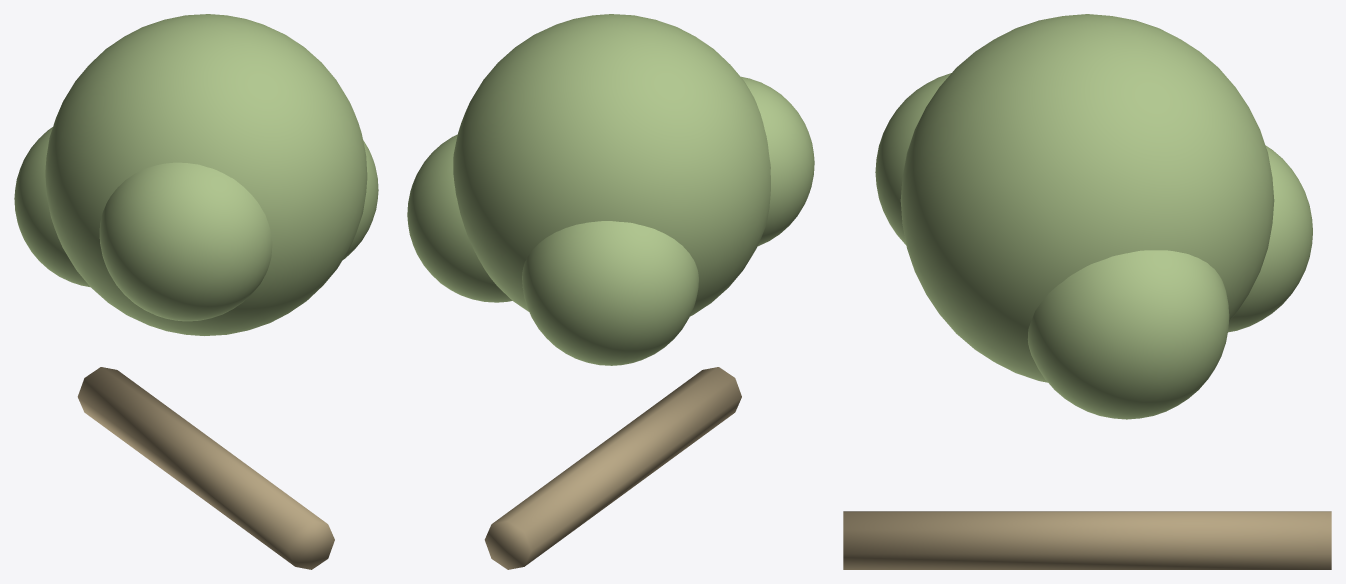
The model's file is plant_tree_apple.glb.
3 renders of one model, left to right at view 1: azimuth 30°, elevation 25°; view 2: azimuth 150°, elevation 25°; view 3: azimuth 270°, elevation 25°, orthographic. The views are drawn at different scales.
Parts seen in each view (by area): view 1: crown_main, crown_sub1, trunk, crown_sub2, crown_sub0; view 2: crown_main, crown_sub2, trunk, crown_sub0, crown_sub1; view 3: crown_main, trunk, crown_sub0, crown_sub2, crown_sub1.
Part boxes in pixels (x1,y1,x2,y2): crown_main: (45, 14, 367, 335); crown_sub1: (99, 162, 272, 321); trunk: (77, 367, 334, 569); crown_sub2: (14, 127, 90, 287); crown_sub0: (343, 140, 378, 259); crown_main: (453, 14, 770, 316); crown_sub2: (522, 221, 698, 365); trunk: (484, 367, 741, 569); crown_sub0: (407, 134, 512, 302); crown_sub1: (741, 76, 814, 246); crown_main: (900, 14, 1274, 382); trunk: (843, 511, 1331, 569); crown_sub0: (1027, 250, 1229, 419); crown_sub2: (1228, 145, 1312, 332); crown_sub1: (875, 73, 951, 244).
Bounding box in the file's own units: 0.9899 × 1.37 × 1.13.
